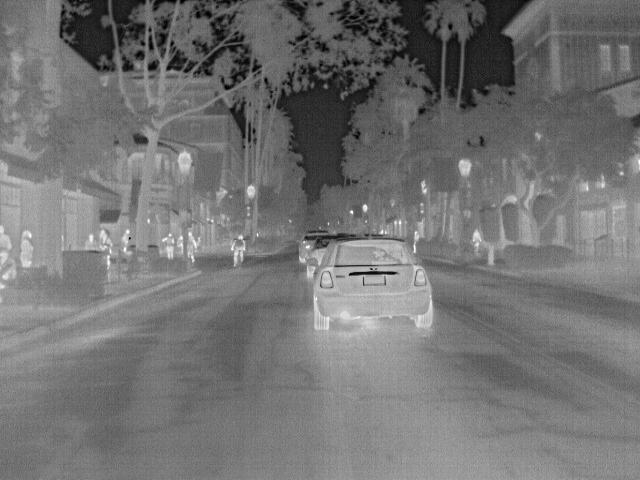car: (305, 233, 438, 331), (303, 234, 355, 282), (298, 230, 336, 264)
person: (18, 228, 35, 271), (96, 227, 112, 270), (229, 234, 248, 266), (1, 225, 14, 269), (160, 235, 176, 260), (186, 230, 198, 262), (469, 227, 484, 252), (120, 227, 132, 253), (410, 230, 423, 254), (83, 234, 97, 250)
